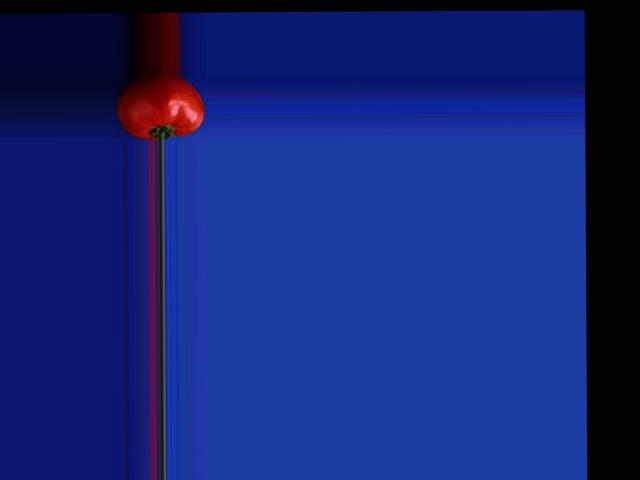tomato: (115, 75, 203, 140)
